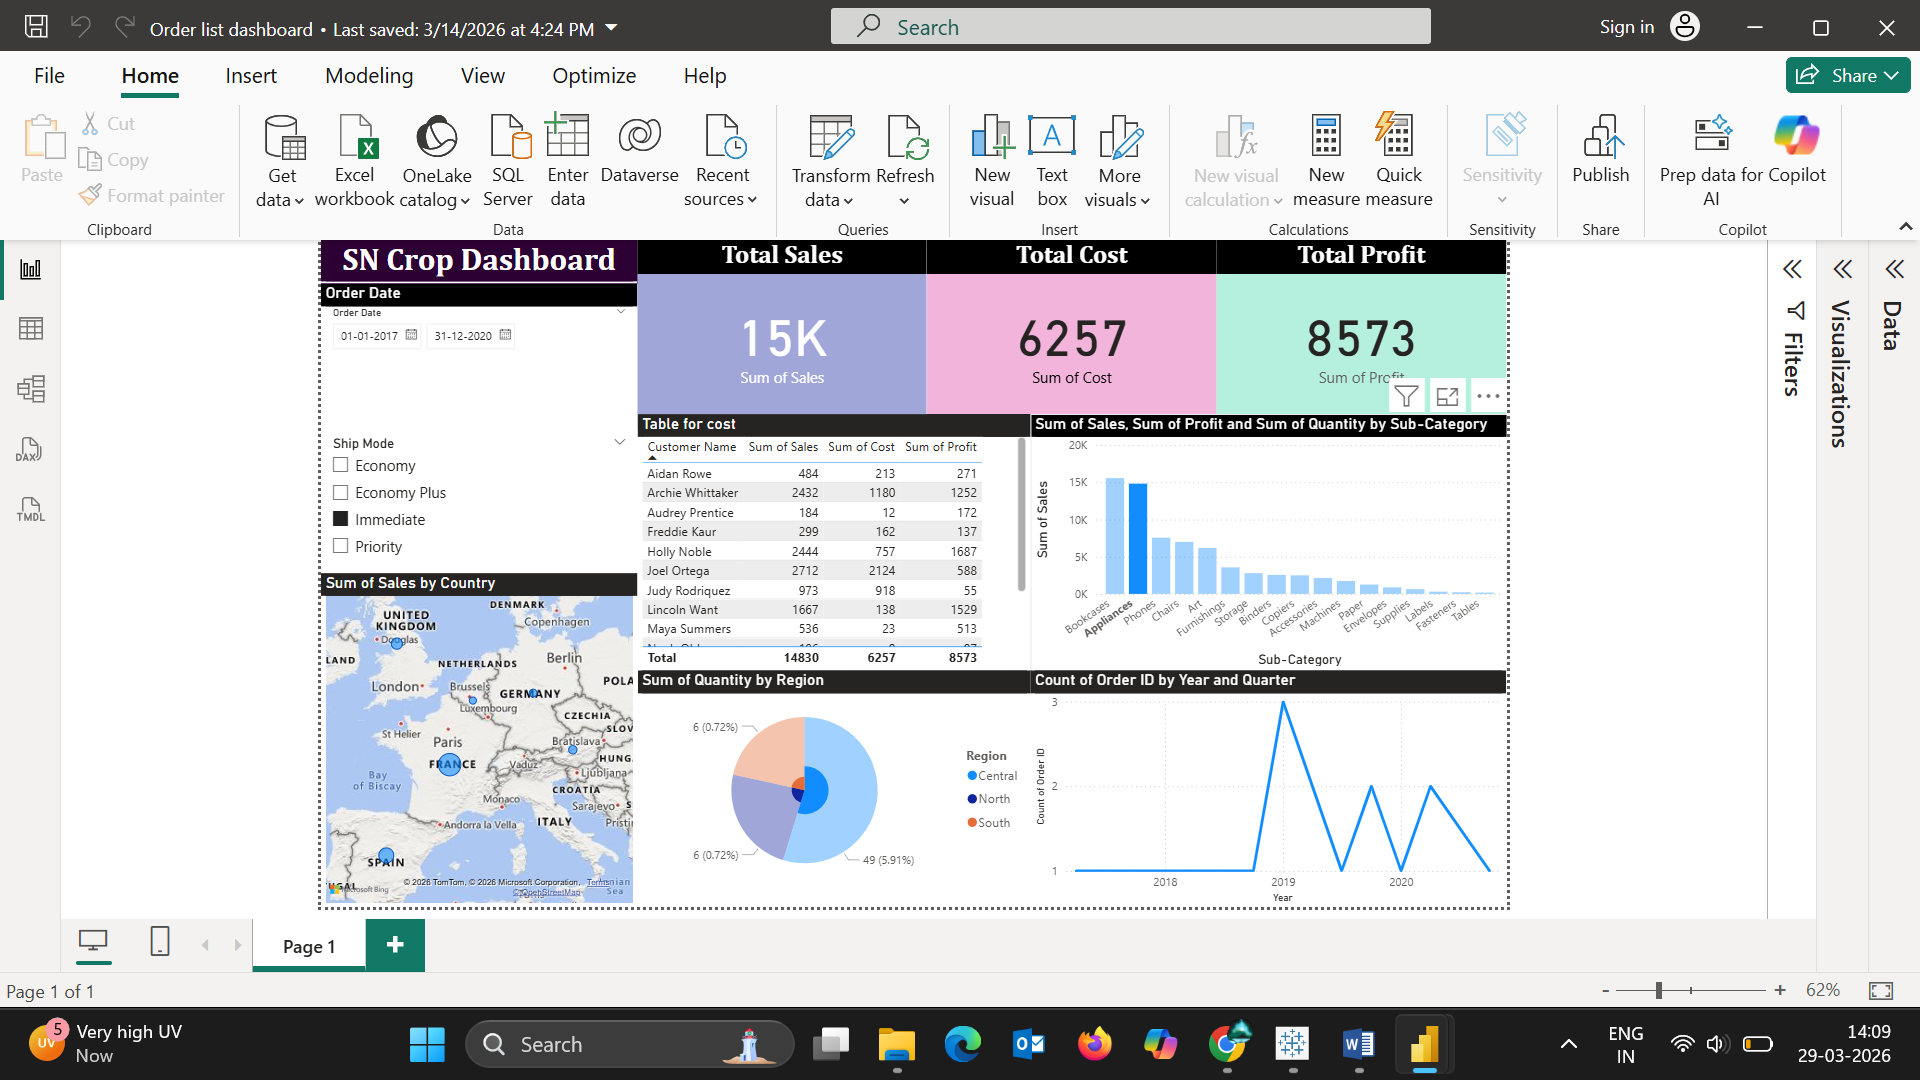

Layout of this report page (visuals, bound fields, positions):
{"tool":"powerbi","page":{"name":"Page 1","canvas":[1280,720],"ordinal":0},"visuals":[{"type":"slicer","title":"Order Date","fields":{"Values":["List of Orders.Order Date"]},"box":[0,47,341.7,103.6],"z":0},{"type":"card","title":"Total Cost","fields":{"Values":["Sum(List of Orders.Cost)"]},"box":[654.2,0,312.5,187.8],"z":1000},{"type":"card","title":"Total Profit","fields":{"Values":["Sum(List of Orders.Profit)"]},"box":[966.7,0,312.5,187.8],"z":2000},{"type":"tableEx","title":"Table for cost","fields":{"Values":["List of Orders.Customer Name","Sum(List of Orders.Sales)","Sum(List of Orders.Cost)","Sum(List of Orders.Profit)"]},"box":[341.7,187.8,424.2,276.9],"z":3000},{"type":"clusteredColumnChart","fields":{"Category":["List of Orders.Sub-Category"],"Y":["Sum(List of Orders.Sales)"]},"box":[765.9,187.8,514.9,276.9],"z":4000},{"type":"pieChart","fields":{"Y":["Sum(List of Orders.Quantity)"],"Category":["List of Orders.Region"]},"box":[341.7,465,425,238.3],"z":5000},{"type":"lineChart","fields":{"Y":["CountNonNull(List of Orders.Order ID)"],"Category":["List of Orders.Order Date.Variation.Date Hierarchy.Year","List of Orders.Order Date.Variation.Date Hierarchy.Quarter"]},"box":[766.7,465,513.3,255],"z":6000},{"type":"map","fields":{"Category":["List of Orders.Country"],"Size":["Sum(List of Orders.Sales)"]},"box":[0,359.5,341.7,361.1],"z":7000},{"type":"textbox","title":"SN Crop Dashboard","box":[0,0,341.7,47],"z":8000},{"type":"slicer","fields":{"Values":["List of Orders.Ship Mode"]},"box":[0,205.6,341.7,153.8],"z":9000},{"type":"card","title":"Total Sales","fields":{"Values":["Sum(List of Orders.Sales)"]},"box":[341.7,0,312,187.8],"z":10000}]}

Visuals, with their boxes on the page's 1280x720 design canvas (x1, y1, x2, y2). These are canvas units, not pixel positions in the 1920x1080 screenshot, which may show the page scaled, cropped or inside an application window:
"Order Date" slicer: 0,47,342,151
"Total Cost" card: 654,0,967,188
"Total Profit" card: 967,0,1279,188
"Table for cost" tableEx: 342,188,766,465
clusteredColumnChart - List of Orders.Sub-Category x Sum(List of Orders.Sales): 766,188,1281,465
pieChart - Sum(List of Orders.Quantity) x List of Orders.Region: 342,465,767,703
lineChart - CountNonNull(List of Orders.Order ID) x List of Orders.Order Date.Variation.Date Hierarchy.Year: 767,465,1280,720
map - List of Orders.Country x Sum(List of Orders.Sales): 0,360,342,721
"SN Crop Dashboard" textbox: 0,0,342,47
slicer - List of Orders.Ship Mode: 0,206,342,359
"Total Sales" card: 342,0,654,188
